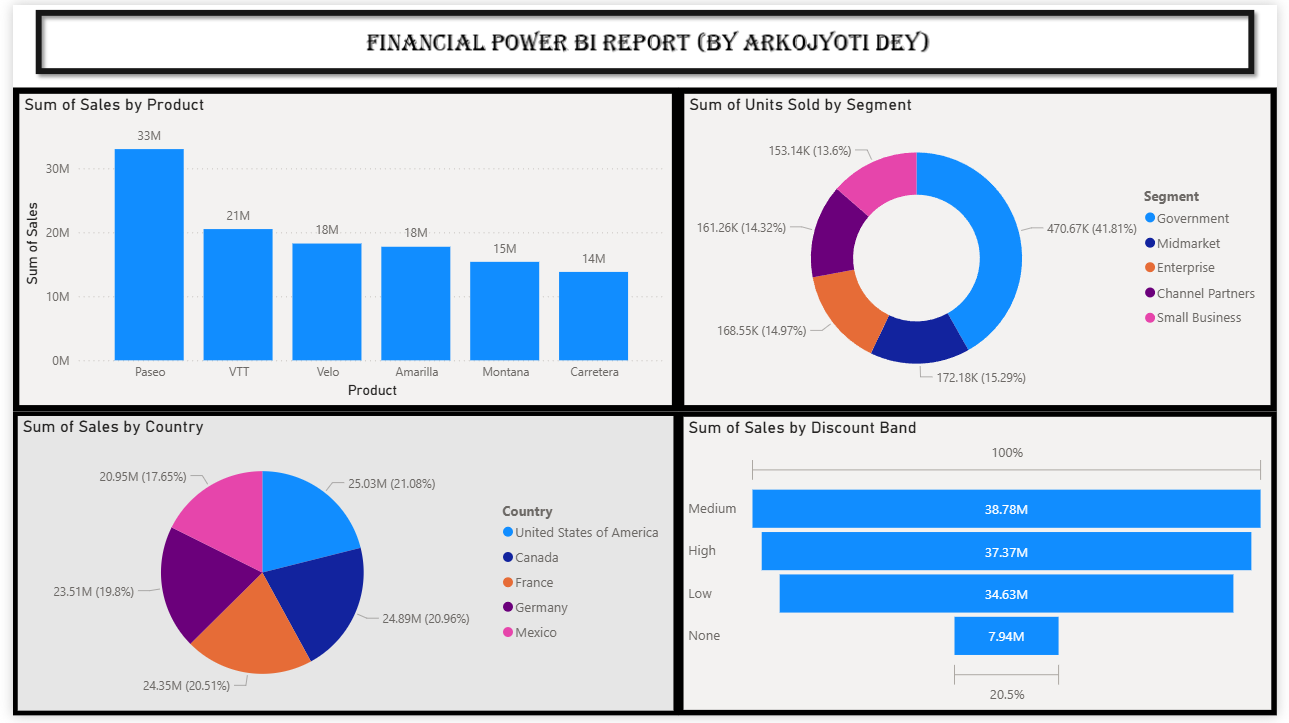

This screenshot's page, from the dashboard's own definition file:
{"tool":"powerbi","page":{"name":"PRODUCT , SEGMENT AND DISCOUNT WISE ","canvas":[1280,720],"ordinal":1},"visuals":[{"type":"pieChart","fields":{"Category":["Sheet1.Country"],"Y":["Sum(Sheet1. Sales)"]},"box":[0,411.5,673.8,308.2],"z":0},{"type":"funnel","fields":{"Y":["Sum(Sheet1. Sales)"],"Category":["Sheet1.Discount Band"]},"box":[673.8,411.5,606.6,308.2],"z":1},{"type":"columnChart","fields":{"Category":["Sheet1.Product"],"Y":["Sum(Sheet1. Sales)"]},"box":[0,83.6,673.8,327.9],"z":2},{"type":"donutChart","fields":{"Y":["Sum(Sheet1.Units Sold)"],"Category":["Sheet1.Segment"]},"box":[673.8,83.6,606.6,327.9],"z":3}]}

Visuals, with their boxes in screenshot pixels (x1, y1, x2, y2), scaled from the page's 1280x720 canvas onto the 1289x723 screenshot:
pieChart - Sheet1.Country x Sum(Sheet1. Sales): bbox(0, 413, 679, 722)
funnel - Sum(Sheet1. Sales) x Sheet1.Discount Band: bbox(679, 413, 1288, 722)
columnChart - Sheet1.Product x Sum(Sheet1. Sales): bbox(0, 84, 679, 413)
donutChart - Sum(Sheet1.Units Sold) x Sheet1.Segment: bbox(679, 84, 1288, 413)
